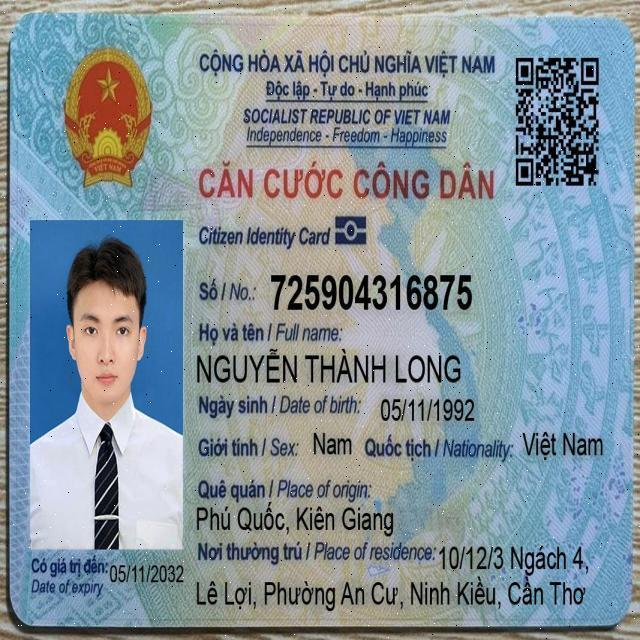current_place: (192, 575, 592, 615), (437, 539, 592, 575)
dob: (377, 391, 478, 428)
expire_date: (106, 559, 188, 587)
gender: (308, 429, 356, 463)
id: (267, 268, 477, 317)
name: (193, 343, 465, 390)
nationality: (520, 425, 606, 465)
origin_place: (193, 499, 397, 540)
